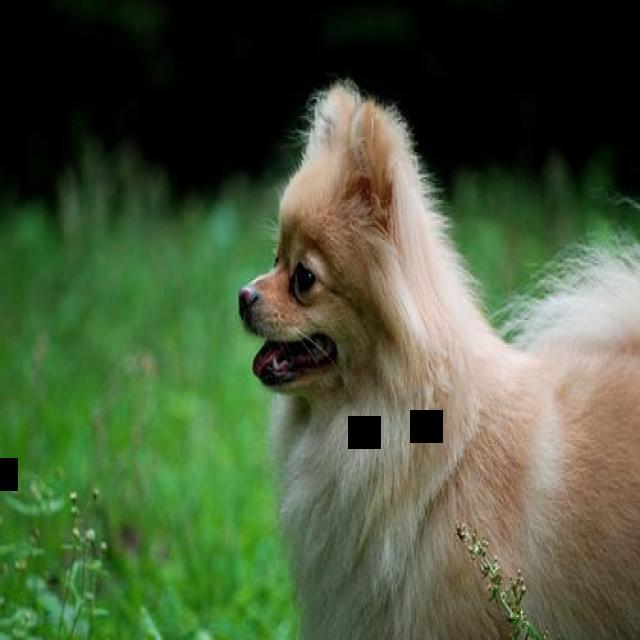adult_dog: (232, 68, 640, 640)
